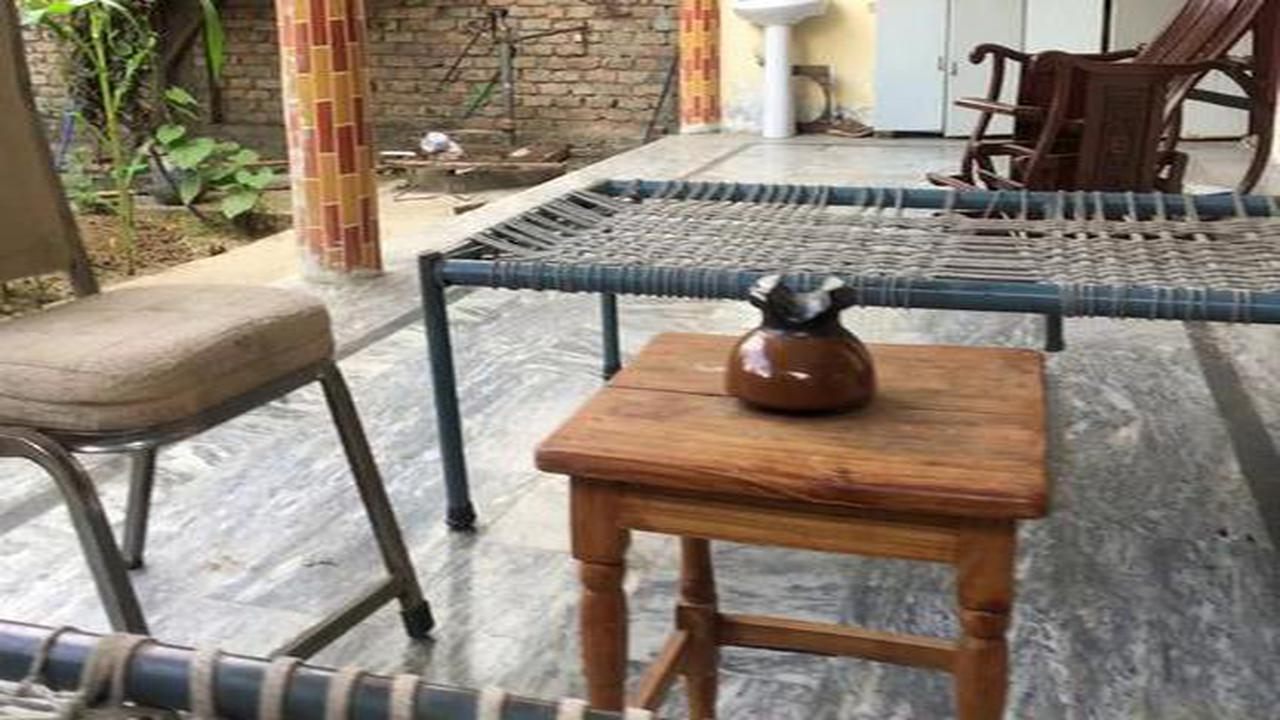insulator_pin: (708, 250, 899, 426)
